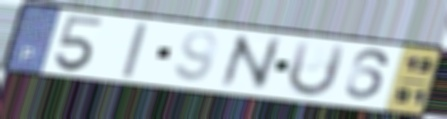5: (51, 14, 107, 74)
6: (343, 48, 392, 105)
9: (171, 30, 222, 85)
I: (118, 21, 152, 80)
N: (217, 32, 284, 92)
U: (284, 39, 350, 99)
